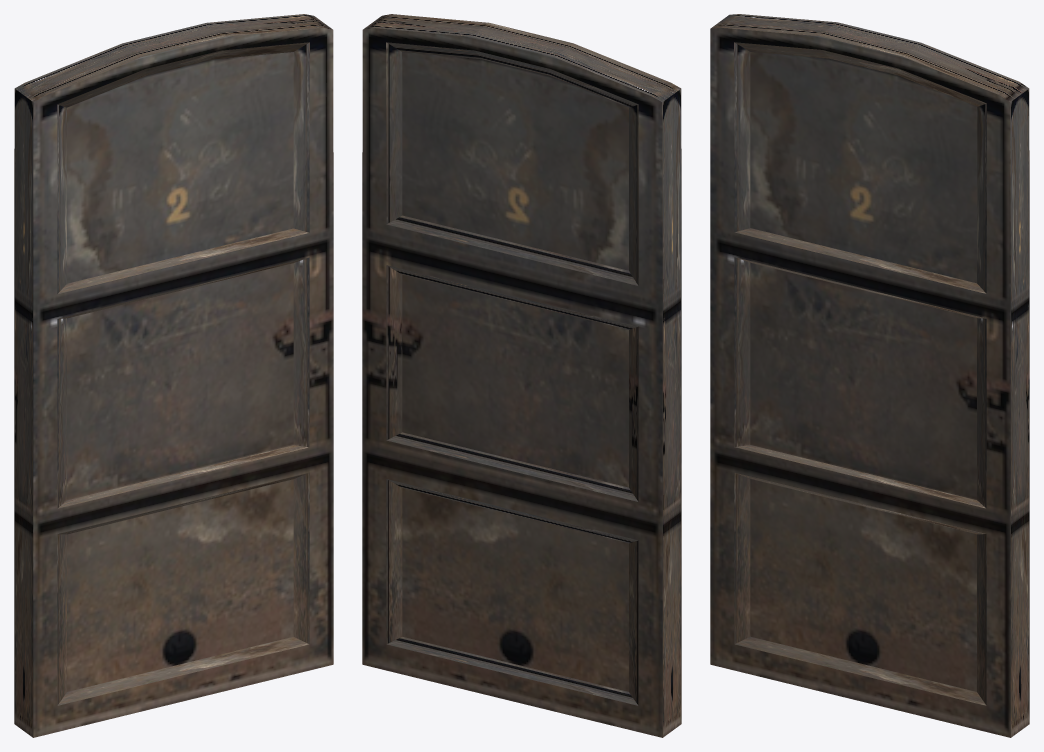
Rendered from Porte6.glb.
3 views of the same model, side by side, from view 1: azimuth 30°, elevation 25°; view 2: azimuth 150°, elevation 25°; view 3: azimuth 330°, elevation 25° (orthographic).
Visible parts, largest first — view 1: Porte6; view 2: Porte6; view 3: Porte6.
Part boxes in pixels (<box>): Porte6: <box>14,14,333,737</box>; Porte6: <box>362,14,681,737</box>; Porte6: <box>710,14,1029,737</box>.
Size of the model in its own units: 1.02 by 2.12 by 0.1115.
Materials: 1 (1 with a texture image).
